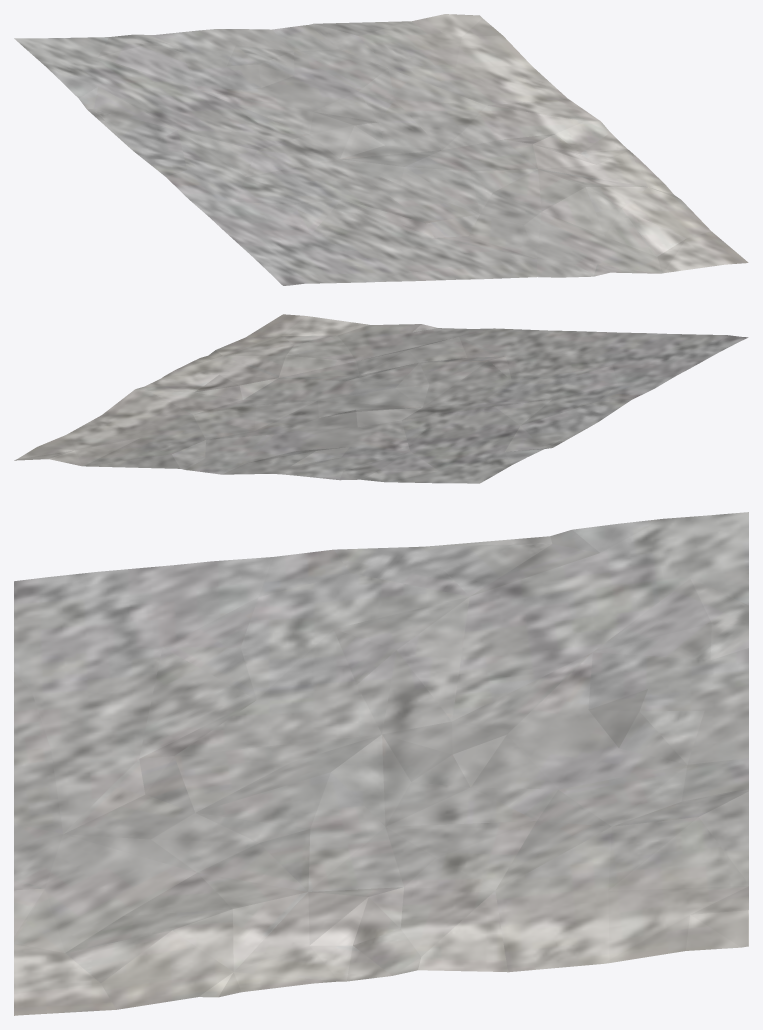
3 views of the same model, one above another, from view 1: azimuth 30°, elevation 25°; view 2: azimuth 150°, elevation 25°; view 3: azimuth 270°, elevation 25° (orthographic). The views are drawn at different scales.
Size of the model in its own units: 0.8374 by 0.2429 by 0.8374.
Materials: 3 (3 with a texture image).
